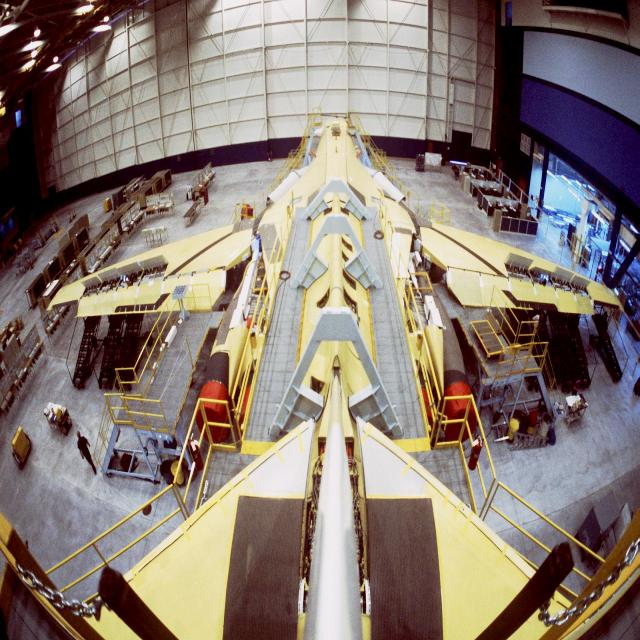Aircraft: (3, 112, 637, 638)
